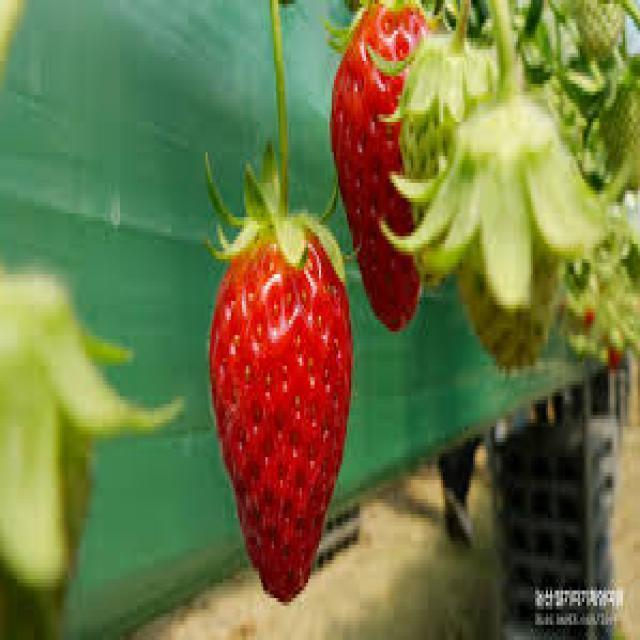Strawberry: (206, 224, 354, 600), (332, 4, 441, 335), (457, 114, 564, 370), (402, 36, 501, 279), (599, 85, 640, 196), (575, 0, 628, 67)
